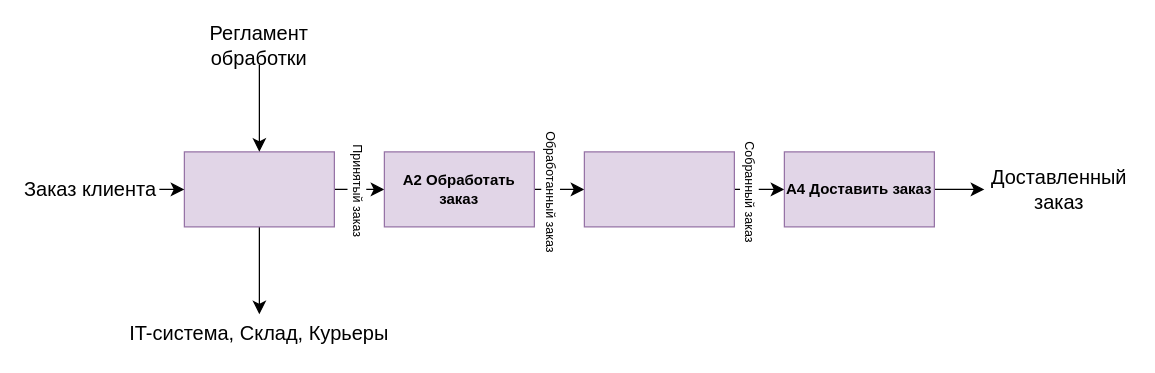
This 1155x373 diagram has some shape labels left out. Here are the shapes that lost their labels. From the top down, the centre of each, then its label:
At [258,189]: "A1 Принять заказ".
At [658,189]: "A3 Собрать заказ".
